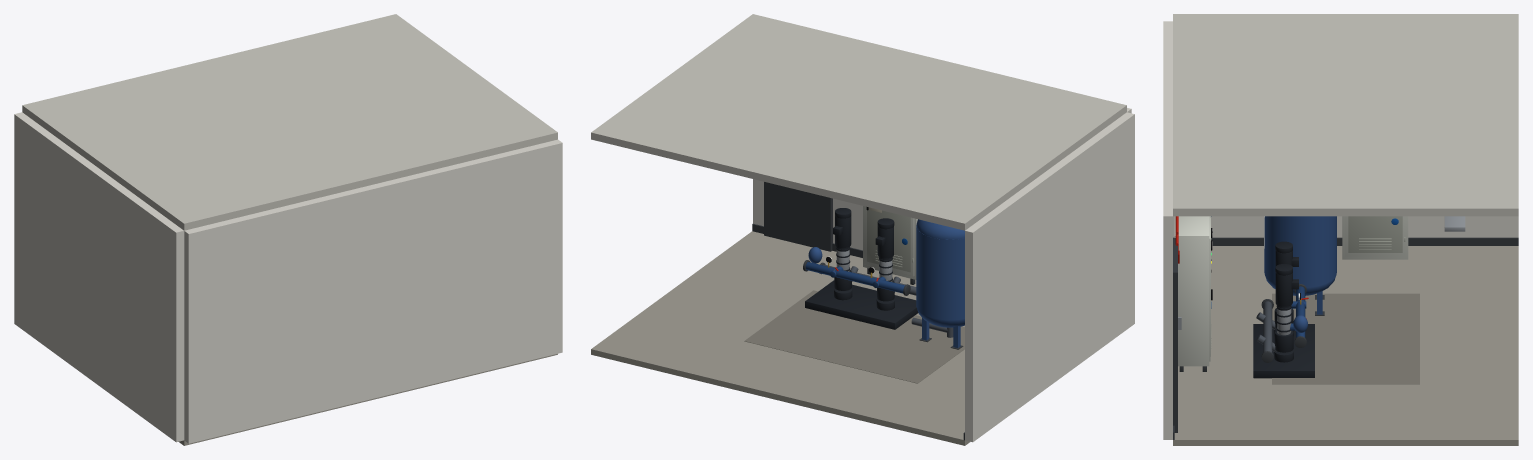
The model's file is makeup-water-pump-room.glb.
The picture shows the model from 3 angles, left to right: view 1: azimuth 30°, elevation 25°; view 2: azimuth 150°, elevation 25°; view 3: azimuth 270°, elevation 25°; orthographic projection. The views are drawn at different scales.
Visible parts, largest first — view 1: MW_WallB, MW_Ceil, MW_WallL, MW_Floor; view 2: MW_Ceil, MW_WallL, MW_Floor, MW_FloorPatch, MW_PumpSkid_Set, MW_Tank_Vessel, MW_WallDetail, MW_Cabinet2_Body, MW_WallB; view 3: MW_Ceil, MW_Floor, MW_FloorPatch, MW_PumpSkid_Set, MW_Cabinet2_Body, MW_Tank_Vessel, MW_WallB, MW_WallL, MW_Cabinet3_Body, MW_WallDetail.
Part boxes in pixels (bbox=[...]): MW_WallB: bbox=[184, 139, 562, 443]; MW_Ceil: bbox=[22, 14, 557, 230]; MW_WallL: bbox=[14, 112, 184, 442]; MW_Floor: bbox=[178, 354, 557, 445]; MW_Ceil: bbox=[591, 14, 1126, 230]; MW_WallL: bbox=[965, 112, 1134, 442]; MW_Floor: bbox=[591, 231, 970, 445]; MW_FloorPatch: bbox=[744, 290, 964, 383]; MW_PumpSkid_Set: bbox=[803, 208, 918, 329]; MW_Tank_Vessel: bbox=[911, 219, 964, 349]; MW_WallDetail: bbox=[752, 182, 964, 440]; MW_Cabinet2_Body: bbox=[863, 206, 917, 284]; MW_WallB: bbox=[753, 108, 1131, 250]; MW_Ceil: bbox=[1173, 14, 1518, 216]; MW_Floor: bbox=[1173, 246, 1518, 445]; MW_FloorPatch: bbox=[1272, 293, 1419, 384]; MW_PumpSkid_Set: bbox=[1253, 241, 1314, 378]; MW_Cabinet2_Body: bbox=[1174, 216, 1212, 371]; MW_Tank_Vessel: bbox=[1264, 216, 1336, 315]; MW_WallB: bbox=[1163, 21, 1172, 439]; MW_WallL: bbox=[1173, 216, 1518, 237]; MW_Cabinet3_Body: bbox=[1342, 216, 1408, 259]; MW_WallDetail: bbox=[1173, 216, 1518, 439].
Bounding box in the file's own units: 5.72 × 3.2 × 4.32.
